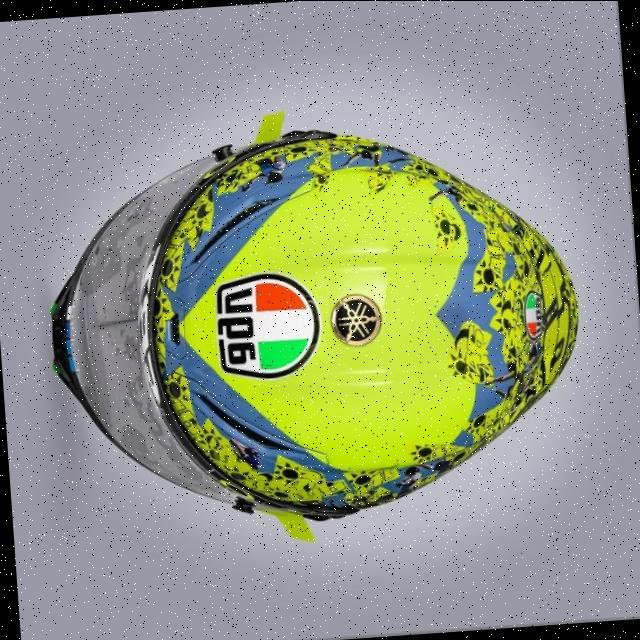Helm: (30, 89, 598, 562)
